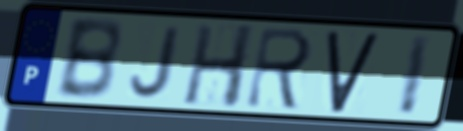B: (53, 16, 124, 103)
H: (179, 23, 258, 111)
I: (395, 32, 435, 118)
J: (127, 24, 185, 101)
R: (242, 25, 317, 114)
V: (324, 30, 383, 116)
